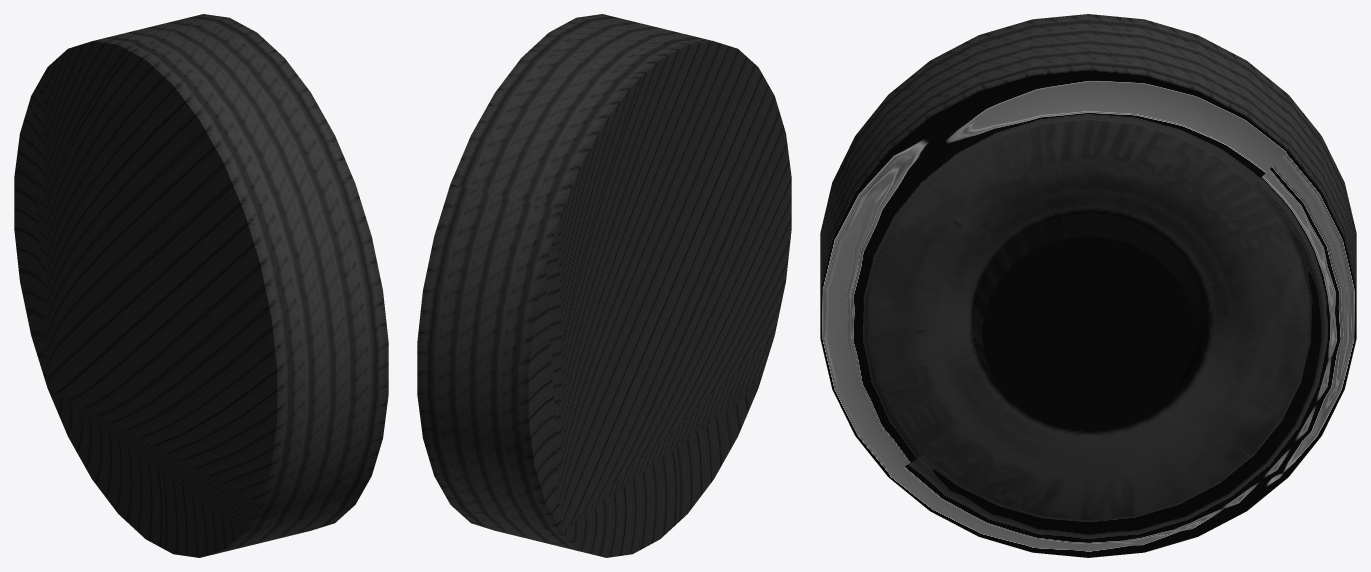
Rendered from Wheel Front Shadow Caster.fbx.
The picture shows the model from 3 angles, left to right: view 1: azimuth 30°, elevation 25°; view 2: azimuth 150°, elevation 25°; view 3: azimuth 270°, elevation 25°; orthographic projection.
Parts seen in each view (by area): view 1: FL Tyre; view 2: FL Tyre; view 3: FL Tyre.
Part boxes in pixels (box(x1,y1,x2,y2)): FL Tyre: box(14, 14, 388, 557); FL Tyre: box(417, 14, 791, 557); FL Tyre: box(820, 14, 1356, 557).
Bounding box in the file's own units: 37.95 × 115 × 115.
